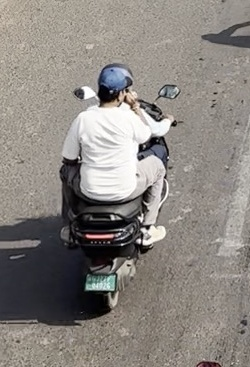BikeWithRider: (56, 61, 182, 315)
Helmet: (100, 62, 136, 88)
NoHelmet: (96, 67, 129, 110)
